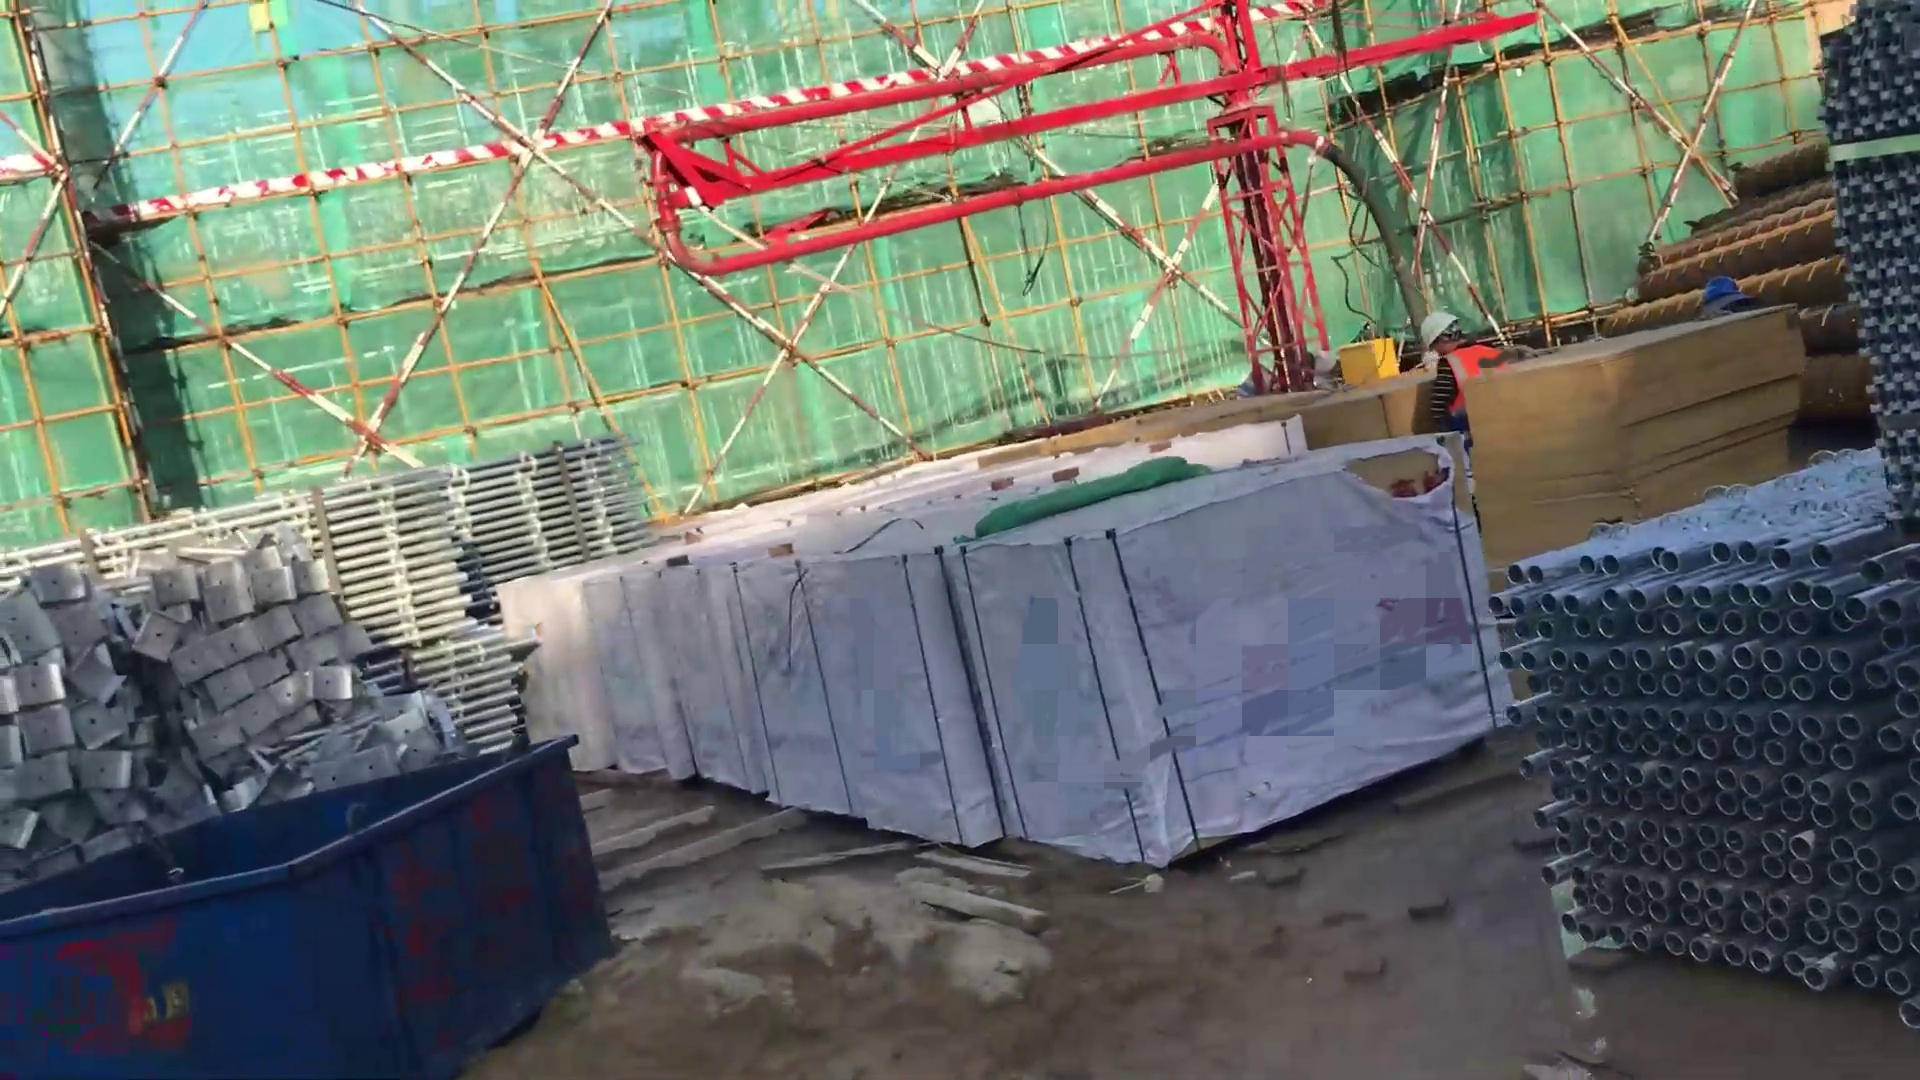board: (1468, 298, 1809, 570)
ebox: (1327, 334, 1405, 401)
helmet: (1418, 309, 1473, 368), (1701, 274, 1755, 327)
hopper: (1, 723, 601, 1080)
person: (1399, 306, 1510, 502)
scaffold: (1447, 503, 1920, 965), (1, 466, 491, 666), (1809, 7, 1920, 501), (465, 419, 650, 591), (412, 621, 543, 777)
vest: (1434, 343, 1515, 437)
